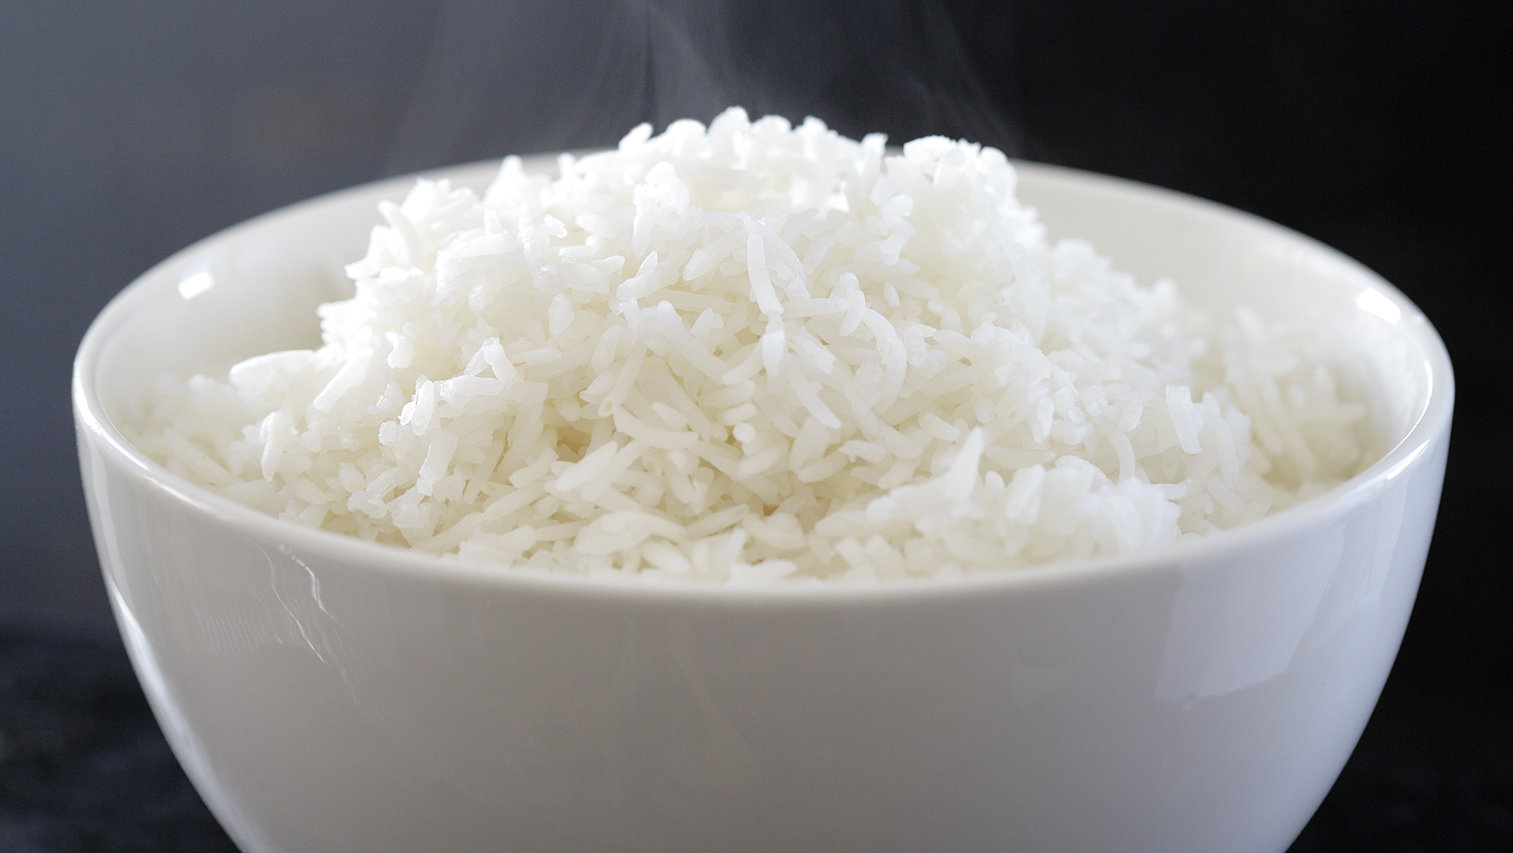rice: (184, 114, 1377, 578)
